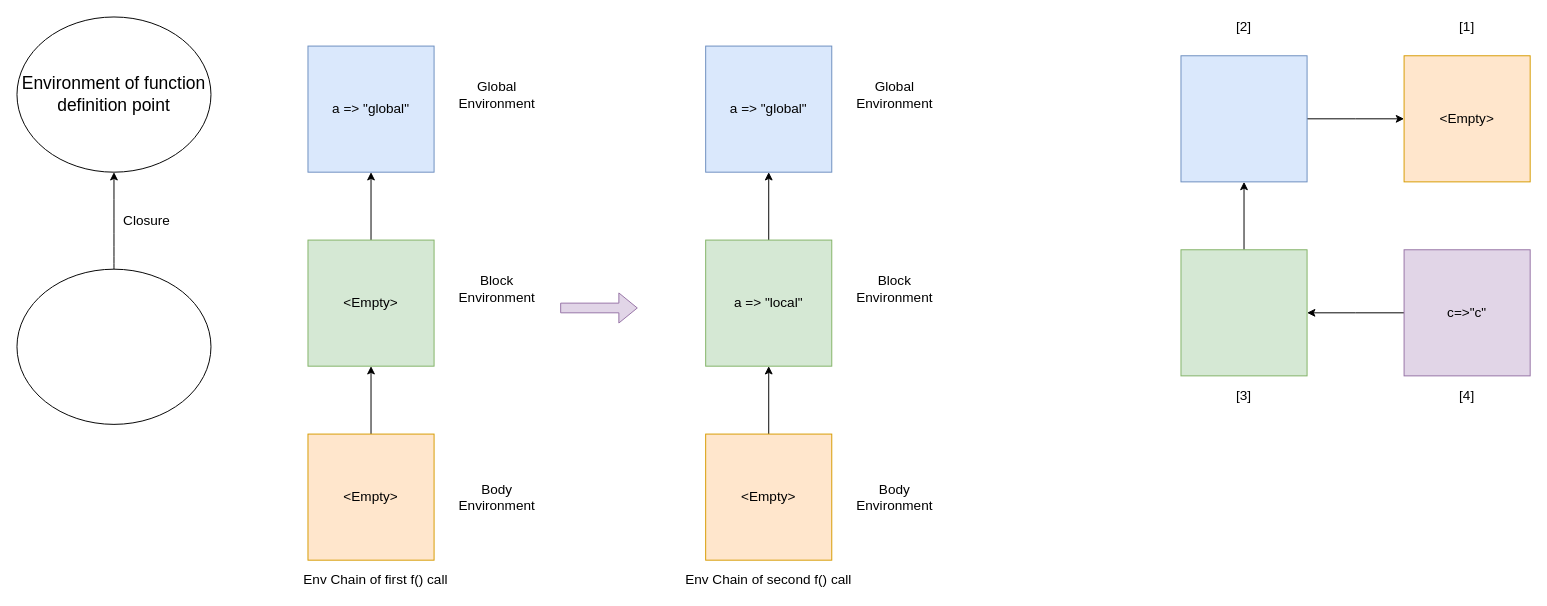
This 1547x606 diagram has some shape labels left out. The box of each missing label's shape, as (x1, y1, x2, y2) in pixels:
a => "a": (1180, 55, 1307, 182)
b=>"b": (1180, 249, 1307, 376)
Environment of function body: (16, 268, 211, 424)
